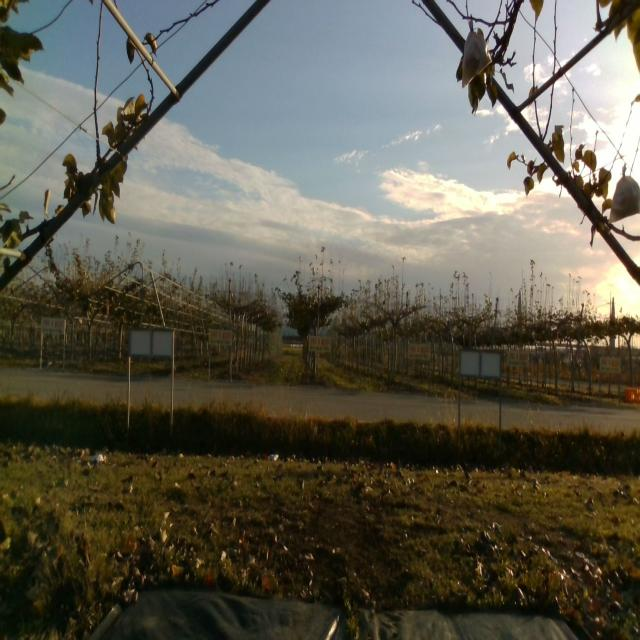pearbags: (460, 18, 492, 88), (607, 164, 640, 228)
